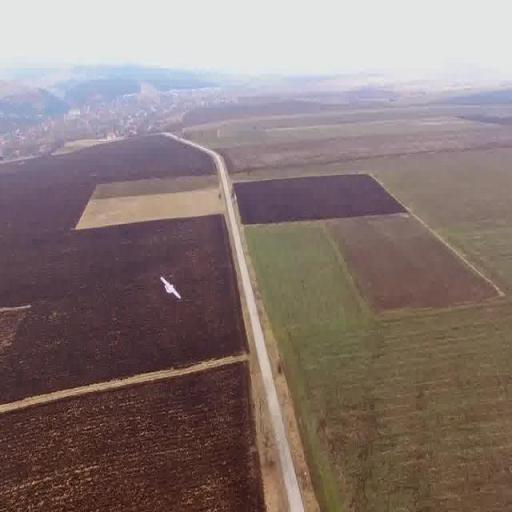uav: (156, 258, 188, 308)
